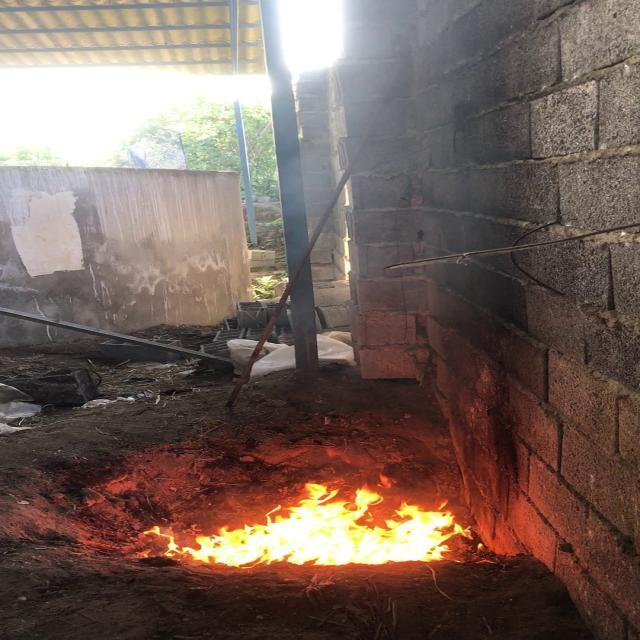Fire: (138, 436, 522, 602)
